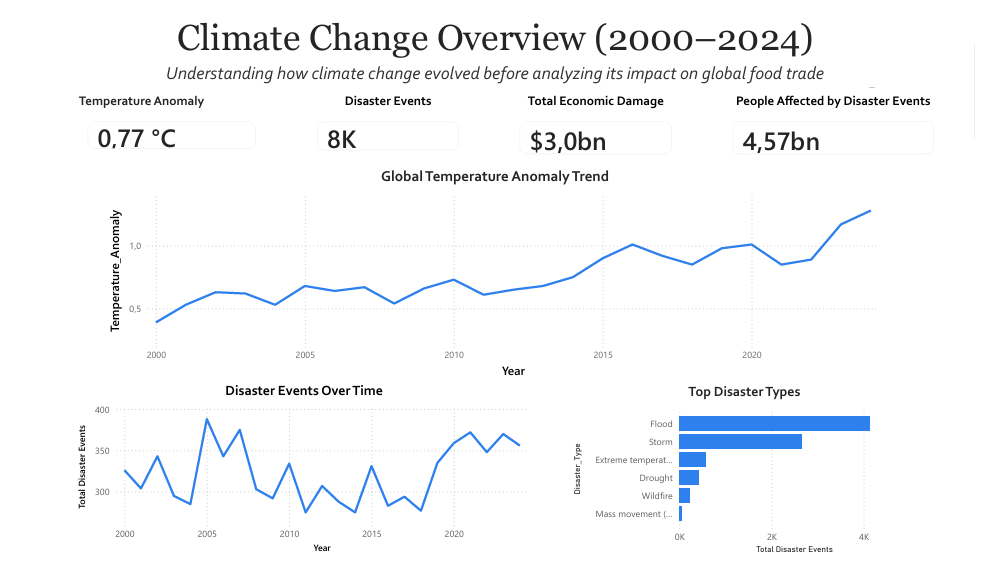

What the dashboard file says about the page in this screenshot:
{"tool":"powerbi","page":{"name":" Climate_Overview","canvas":[1280,720],"ordinal":1},"visuals":[{"type":"textbox","title":"Climate Change Overview (2000–2024)","box":[127.5,0,1025,100],"z":0},{"type":"lineChart","title":"Global Temperature Anomaly Trend","fields":{"Y":["Avg(FactClimate.Temperature_Anomaly)"],"Category":["DimDate.Year"]},"box":[120.8,200,1038.3,286.7],"z":2000},{"type":"lineChart","title":"Disaster Events Over Time","fields":{"Category":["DimDate.Year"],"Y":["KPI.Total Disasters"]},"box":[80.5,485.9,610.2,234.1],"z":3000},{"type":"cardVisual","title":"Temperature Anomaly ","fields":{"Data":["KPI.Average Temperature"]},"box":[80,100,258.3,93.3],"z":4000},{"type":"cardVisual","title":" Disaster Events","fields":{"Data":["KPI.Total Disasters"]},"box":[385.6,100,223.3,95],"z":5000},{"type":"cardVisual","title":"Total Economic Damage","fields":{"Data":["KPI.Total Disaster Damage"]},"box":[656.1,100,236.7,100],"z":6000},{"type":"cardVisual","title":"People Affected by Disaster Events","fields":{"Data":["KPI.Total Affected"]},"box":[940,100,301.7,100],"z":7000},{"type":"barChart","title":"Top Disaster Types","fields":{"Category":["FactDisaster.Disaster_Type","FactDisaster.Disaster_Subtype"],"Y":["KPI.Total Disasters"]},"box":[740,486.7,465,233.3],"z":8000}]}

Visuals, with their boxes in screenshot pixels (x1, y1, x2, y2), scaled from the page's 1280x720 canvas onto the 992x574 screenshot:
"Climate Change Overview (2000–2024)" textbox: l=99, t=0, r=893, b=80
"Global Temperature Anomaly Trend" lineChart: l=94, t=159, r=898, b=388
"Disaster Events Over Time" lineChart: l=62, t=387, r=535, b=573
"Temperature Anomaly " cardVisual: l=62, t=80, r=262, b=154
" Disaster Events" cardVisual: l=299, t=80, r=472, b=155
"Total Economic Damage" cardVisual: l=508, t=80, r=692, b=159
"People Affected by Disaster Events" cardVisual: l=728, t=80, r=962, b=159
"Top Disaster Types" barChart: l=574, t=388, r=934, b=573
